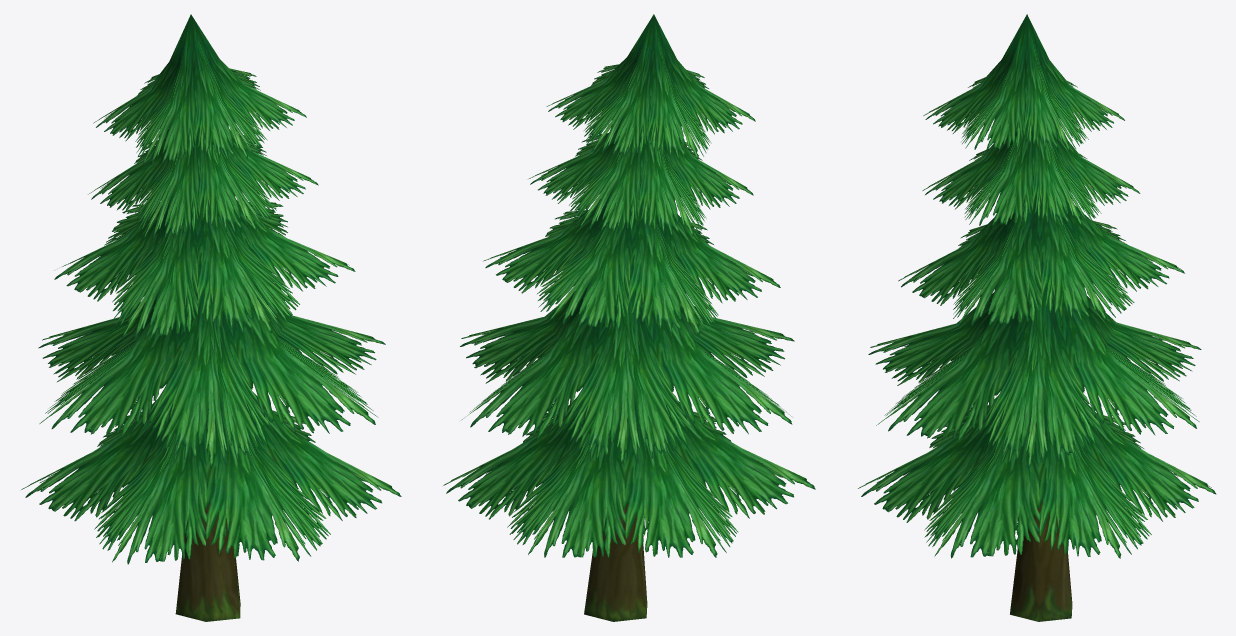
File: Stage_CaoYuan_ShuMu03.FBX
3 renders of one model, left to right at view 1: azimuth 30°, elevation 25°; view 2: azimuth 150°, elevation 25°; view 3: azimuth 270°, elevation 25°, orthographic. The views are drawn at different scales.
Parts seen in each view (by area): view 1: Stage_CaoYuan_ShuMu03; view 2: Stage_CaoYuan_ShuMu03; view 3: Stage_CaoYuan_ShuMu03.
Part boxes in pixels (x1=…): Stage_CaoYuan_ShuMu03: x1=21, y1=14, x2=401, y2=621; Stage_CaoYuan_ShuMu03: x1=443, y1=14, x2=815, y2=621; Stage_CaoYuan_ShuMu03: x1=858, y1=14, x2=1216, y2=621.
Bounding box in the file's own units: 434 × 715 × 413.
